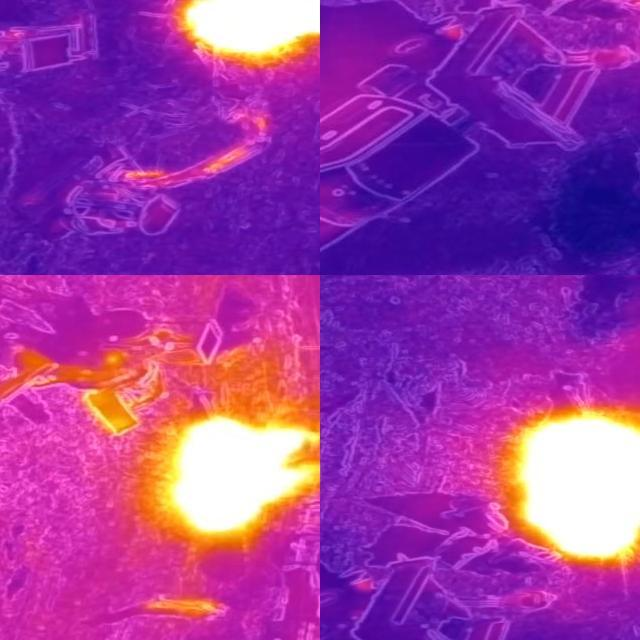fire: (508, 408, 640, 560), (170, 416, 321, 536), (178, 1, 321, 66)
